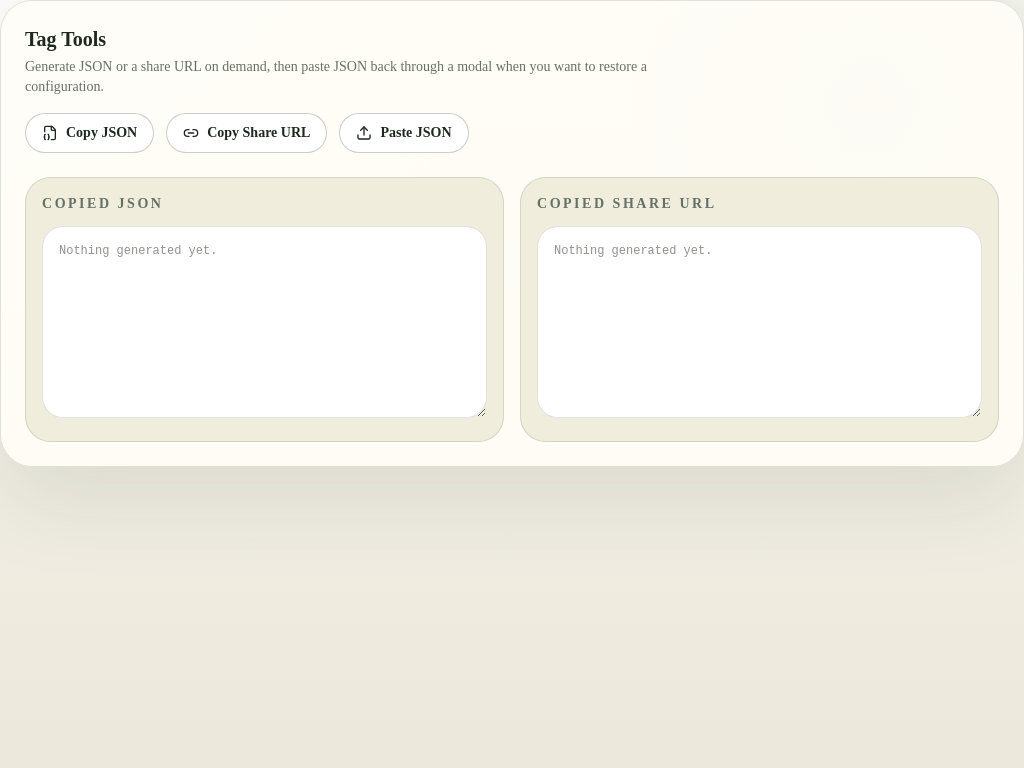
TagTools › copies generated JSON with the same button that generates it
What coordinates should you click on to do the following:
click the button "Copy JSON"
I would click on:
 (90, 133)
Its box is [25,113,154,153].
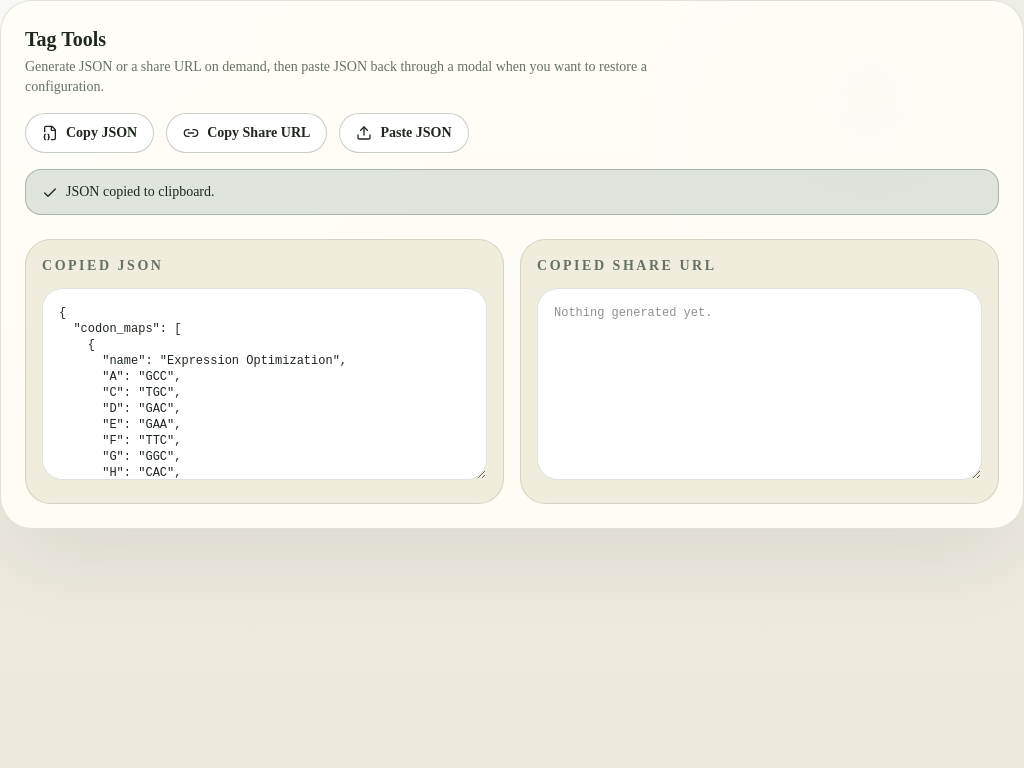
Result: the text box showing "\"codon_maps\"" is shown at [42,288,487,480]
Result: the text "JSON copied to clipboard." is shown at [25,169,999,215]
